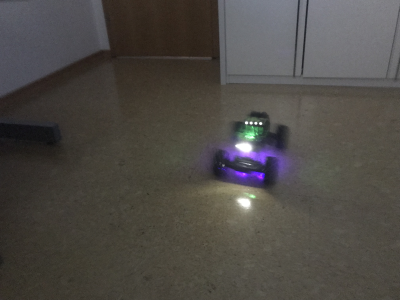remote control car: (210, 108, 290, 188)
